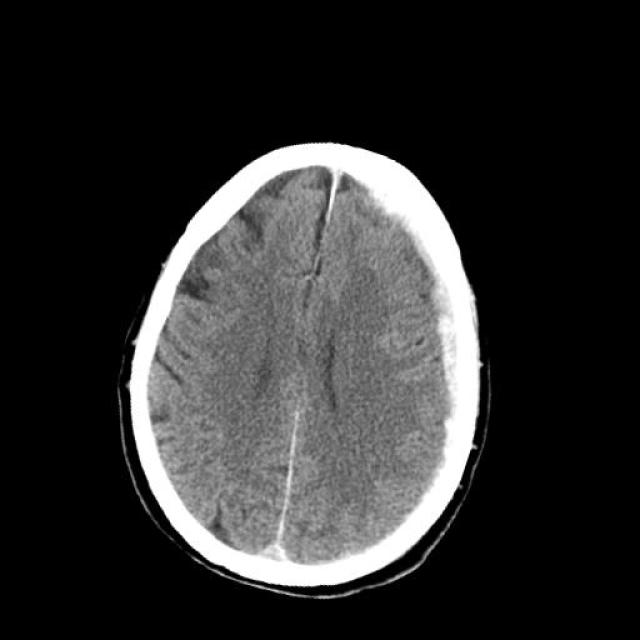Subdural: (319, 182, 522, 394)
